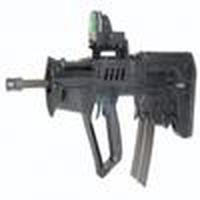gun: (5, 52, 199, 161)
